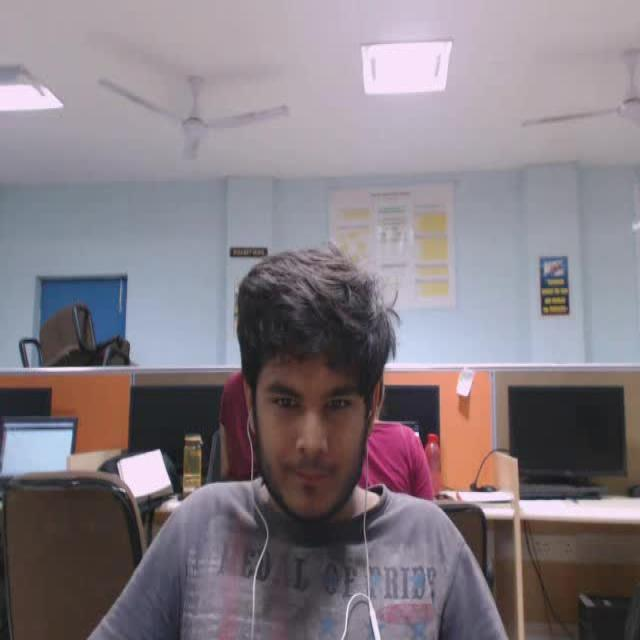Engaged: (226, 224, 419, 536)
